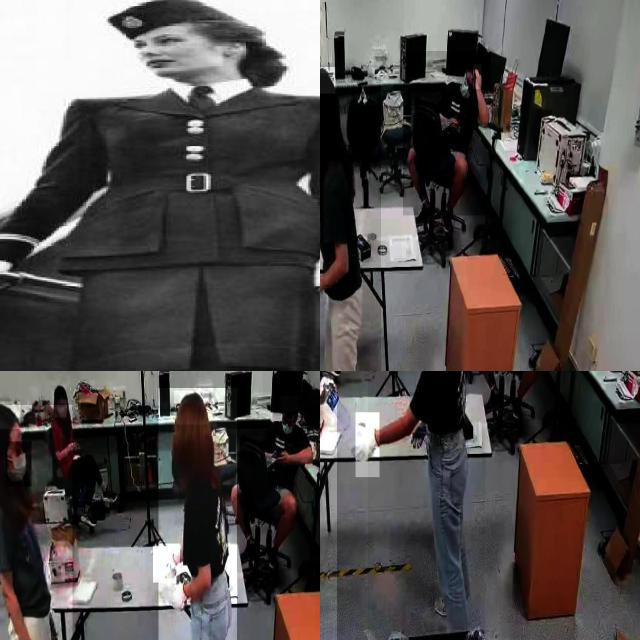face_mask: (6, 441, 32, 487), (280, 412, 296, 444), (456, 78, 474, 96)
face_nomask: (120, 28, 222, 84), (55, 400, 67, 418)
hand_glove: (356, 412, 380, 478), (320, 373, 341, 427), (153, 544, 180, 584), (170, 579, 188, 624), (306, 255, 320, 291)
hand_noglove: (473, 64, 482, 90), (447, 115, 459, 132), (67, 441, 81, 451)
head_nohelmet: (107, 0, 220, 34), (174, 391, 210, 425), (0, 401, 21, 429), (320, 67, 336, 94), (281, 396, 299, 412), (464, 56, 484, 70), (52, 383, 68, 398)
person: (0, 0, 320, 371), (368, 371, 485, 640), (158, 388, 237, 640), (320, 73, 381, 371), (0, 404, 73, 640), (403, 51, 491, 216), (45, 380, 117, 522), (255, 392, 315, 550)
shoes: (77, 501, 97, 529), (100, 478, 120, 505)
